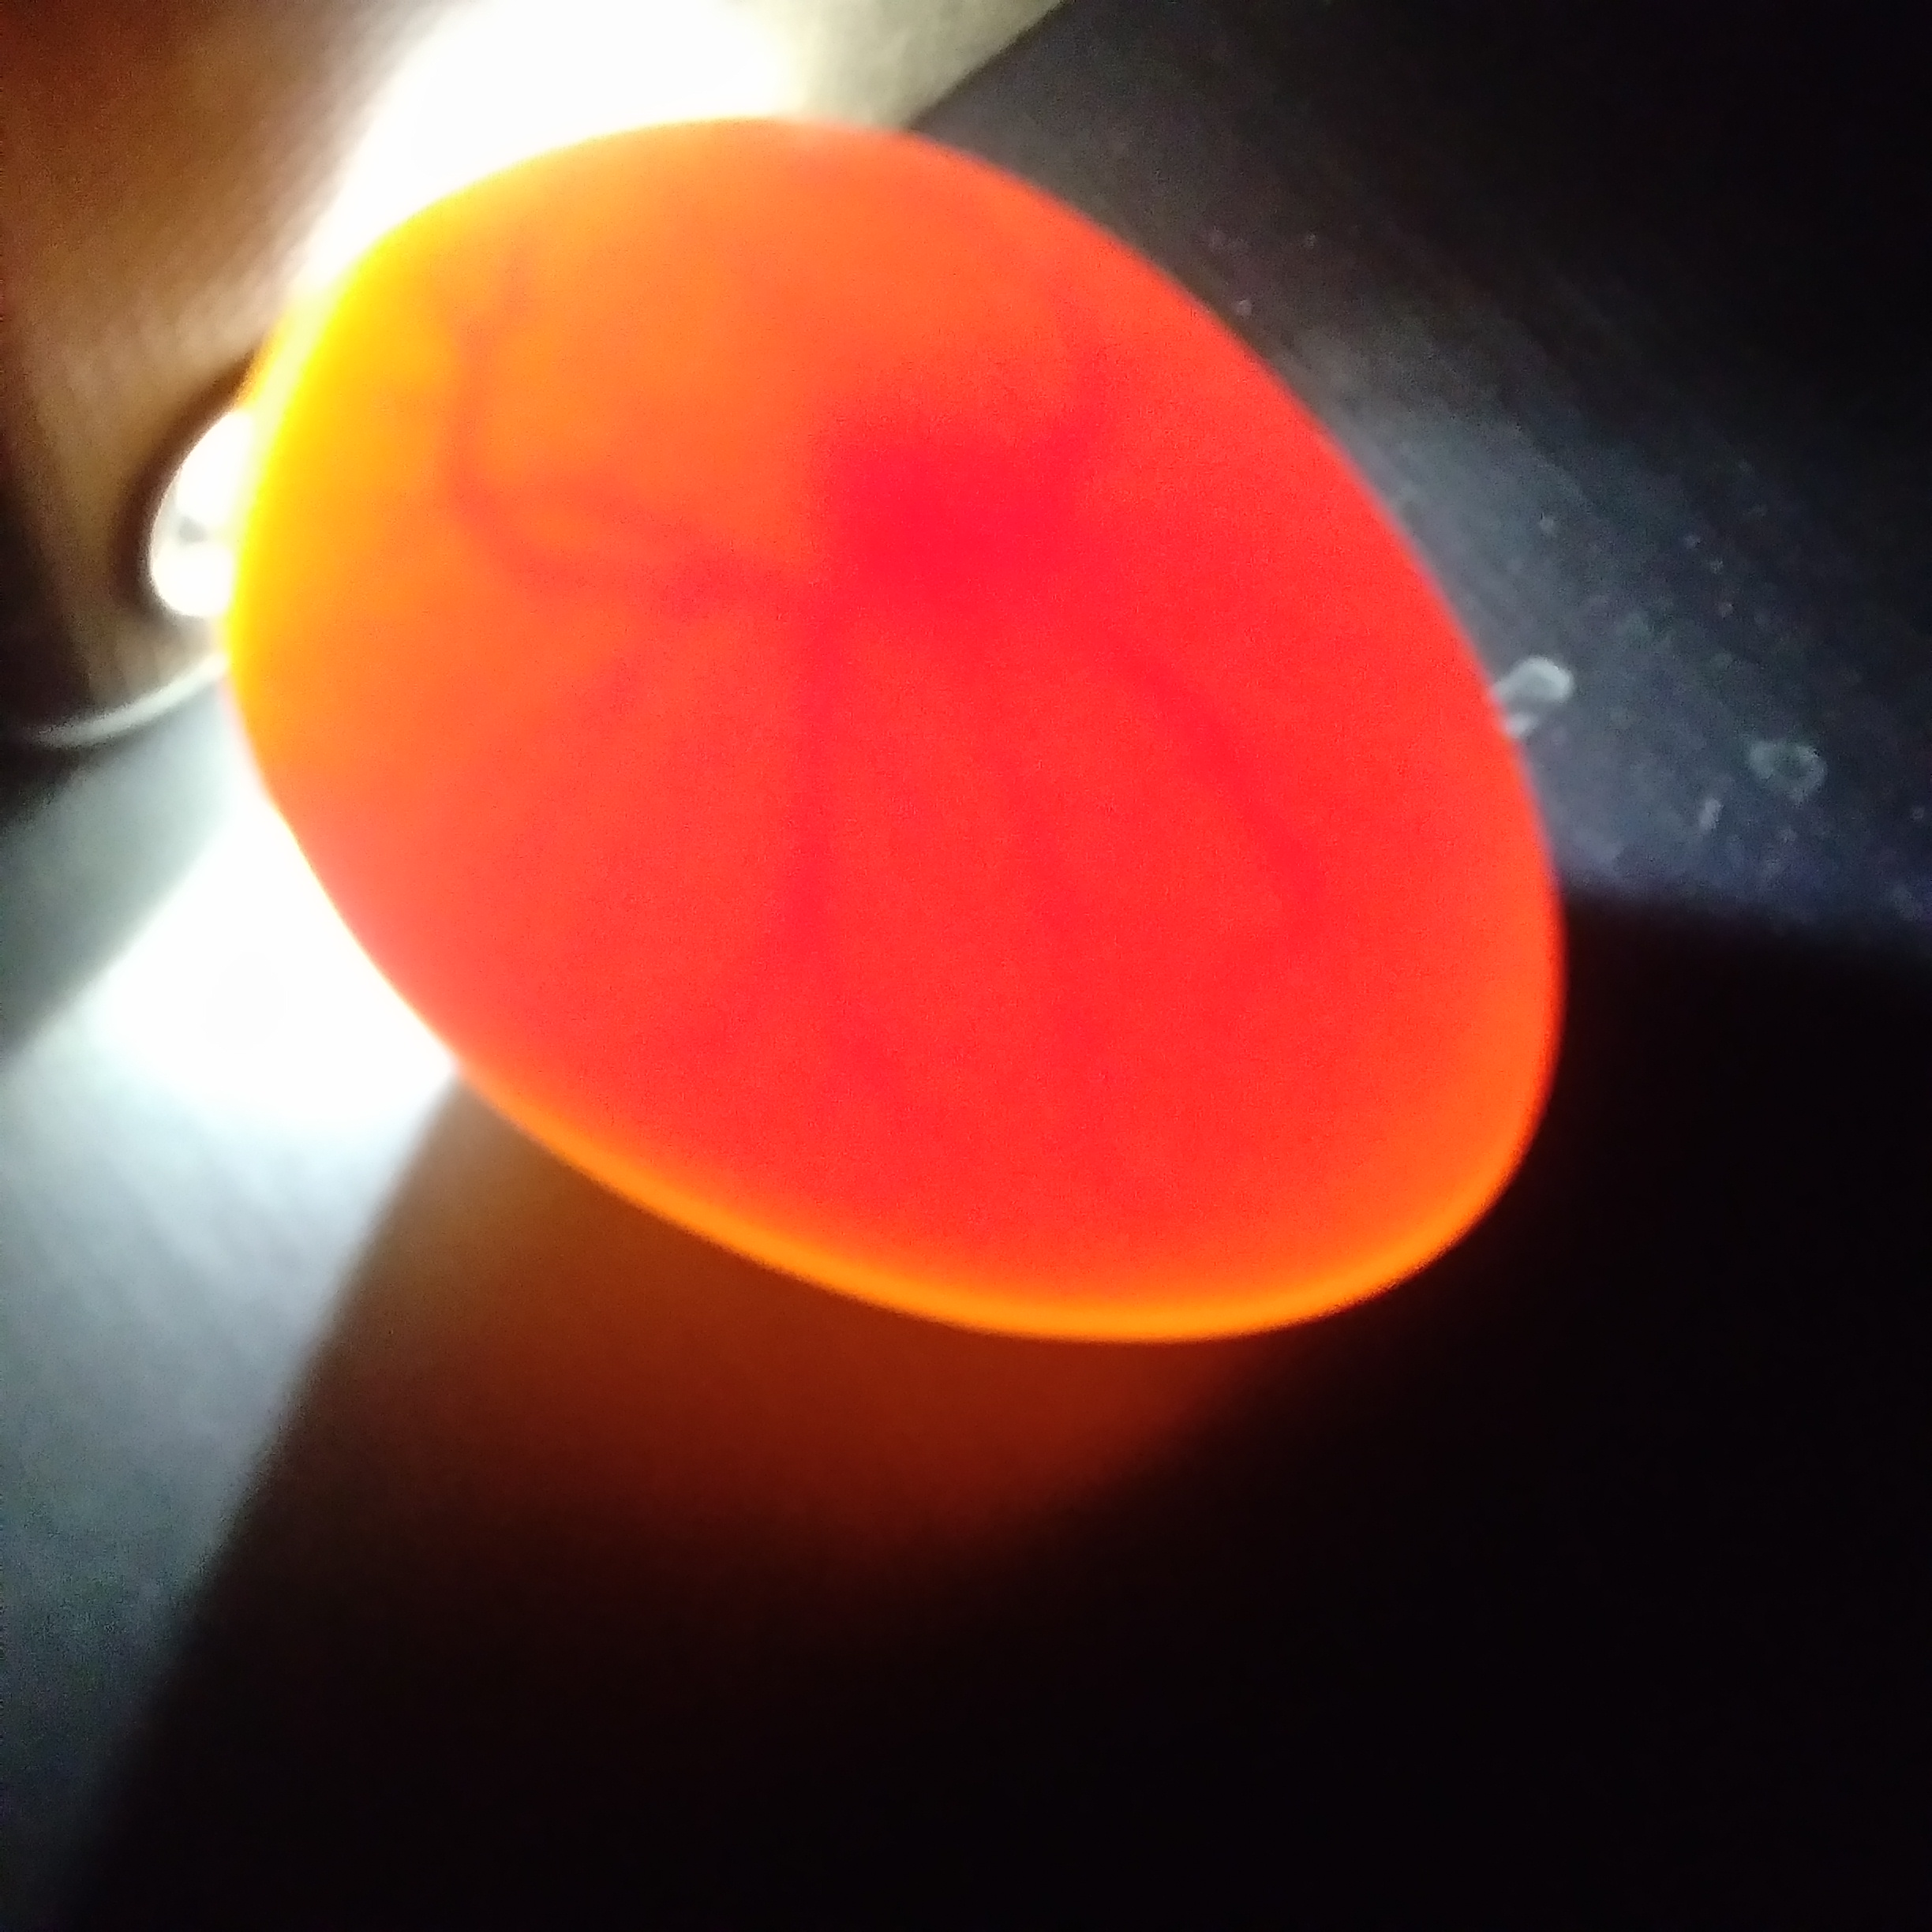bloodcell: (426, 257, 770, 987), (888, 717, 1307, 952)
embryo: (828, 395, 970, 607)
